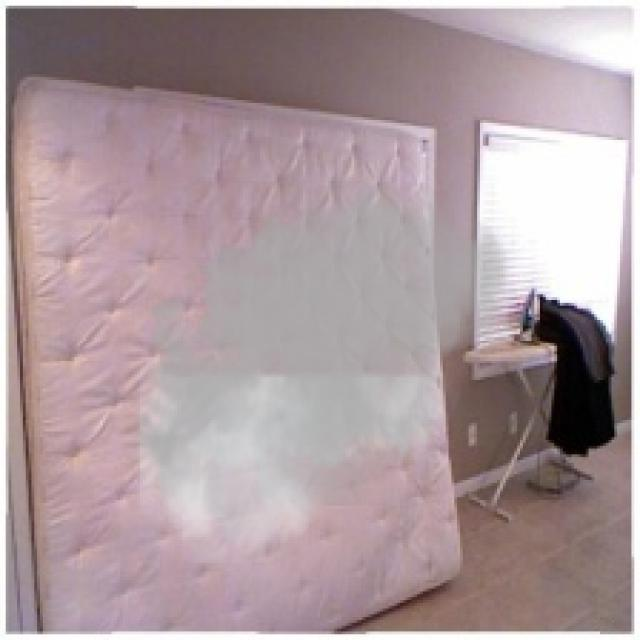Smoke: (122, 166, 518, 563)
